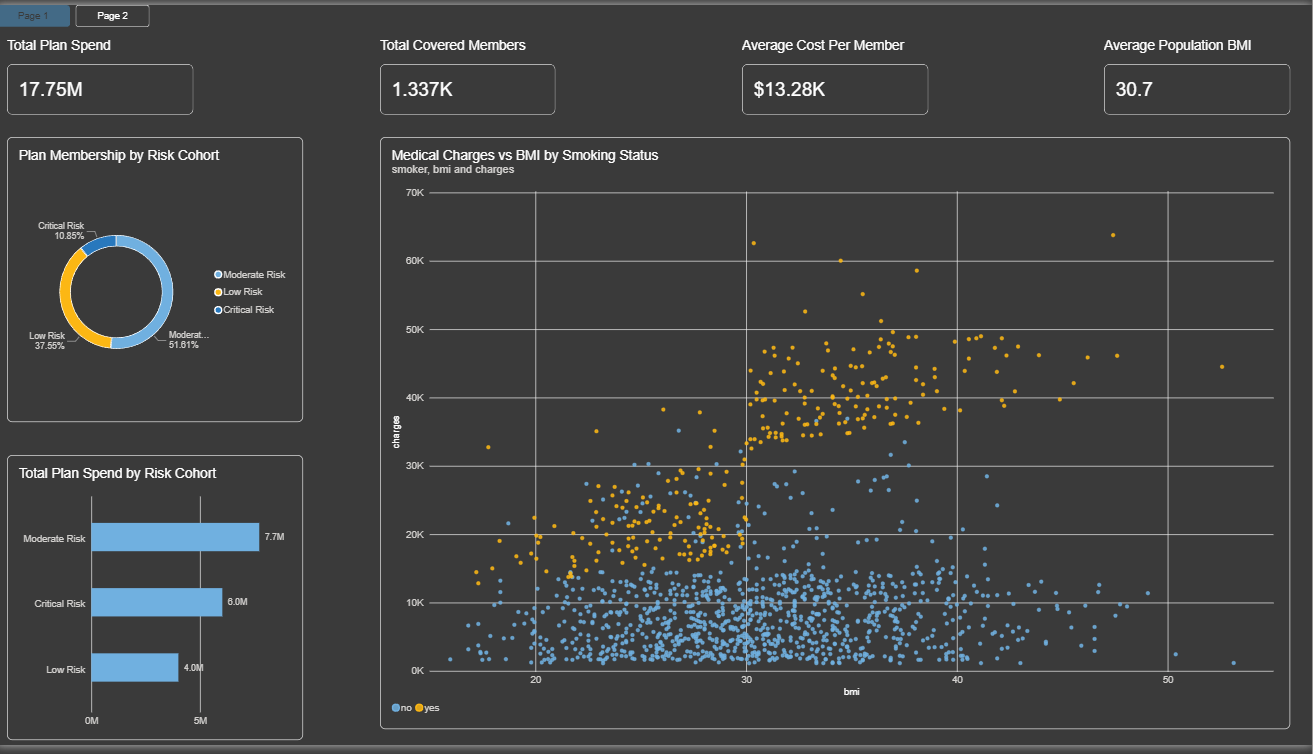

The dashboard page shown, as its layout file describes it:
{"tool":"powerbi","page":{"name":"Page 1","canvas":[1920,1080],"ordinal":0},"visuals":[{"type":"cardVisual","title":"Total Plan Spend","fields":{"Data":["clean_insurance_data.Total Plan Spend"]},"box":[16,48,272,112],"z":0},{"type":"cardVisual","title":"Total Covered Members","fields":{"Data":["CountNonNull(clean_insurance_data.age)"]},"box":[560,48,256,112],"z":1000},{"type":"cardVisual","title":"Average Cost Per Member","fields":{"Data":["clean_insurance_data.Average Claim Cost"]},"box":[1088,48,272,112],"z":2000},{"type":"cardVisual","title":"Average Population BMI","fields":{"Data":["Avg(clean_insurance_data.bmi)"]},"box":[1616,48,272,112],"z":3000},{"type":"donutChart","title":"Plan Membership by Risk Cohort","fields":{"Category":["clean_insurance_data.Risk_Tier"],"Y":["CountNonNull(clean_insurance_data.age)"]},"box":[16,192,432,416],"z":4000},{"type":"clusteredBarChart","title":"Total Plan Spend by Risk Cohort","fields":{"Category":["clean_insurance_data.Risk_Tier"],"Y":["clean_insurance_data.Total Plan Spend"]},"box":[16,656,432,416],"z":5000},{"type":"scatterChart","title":"Medical Charges vs BMI by Smoking Status","fields":{"Series":["clean_insurance_data.smoker"],"X":["clean_insurance_data.bmi"],"Y":["clean_insurance_data.charges"]},"box":[560,192,1328,864],"z":6000},{"type":"pageNavigator","box":[0,0,224,32],"z":6001}]}

Visuals, with their boxes in screenshot pixels (x1, y1, x2, y2), scaled from the page's 1920x1080 canvas onto the 1313x754 screenshot:
"Total Plan Spend" cardVisual: left=11, top=34, right=197, bottom=112
"Total Covered Members" cardVisual: left=383, top=34, right=558, bottom=112
"Average Cost Per Member" cardVisual: left=744, top=34, right=930, bottom=112
"Average Population BMI" cardVisual: left=1105, top=34, right=1291, bottom=112
"Plan Membership by Risk Cohort" donutChart: left=11, top=134, right=306, bottom=424
"Total Plan Spend by Risk Cohort" clusteredBarChart: left=11, top=458, right=306, bottom=748
"Medical Charges vs BMI by Smoking Status" scatterChart: left=383, top=134, right=1291, bottom=737
pageNavigator: left=0, top=0, right=153, bottom=22
